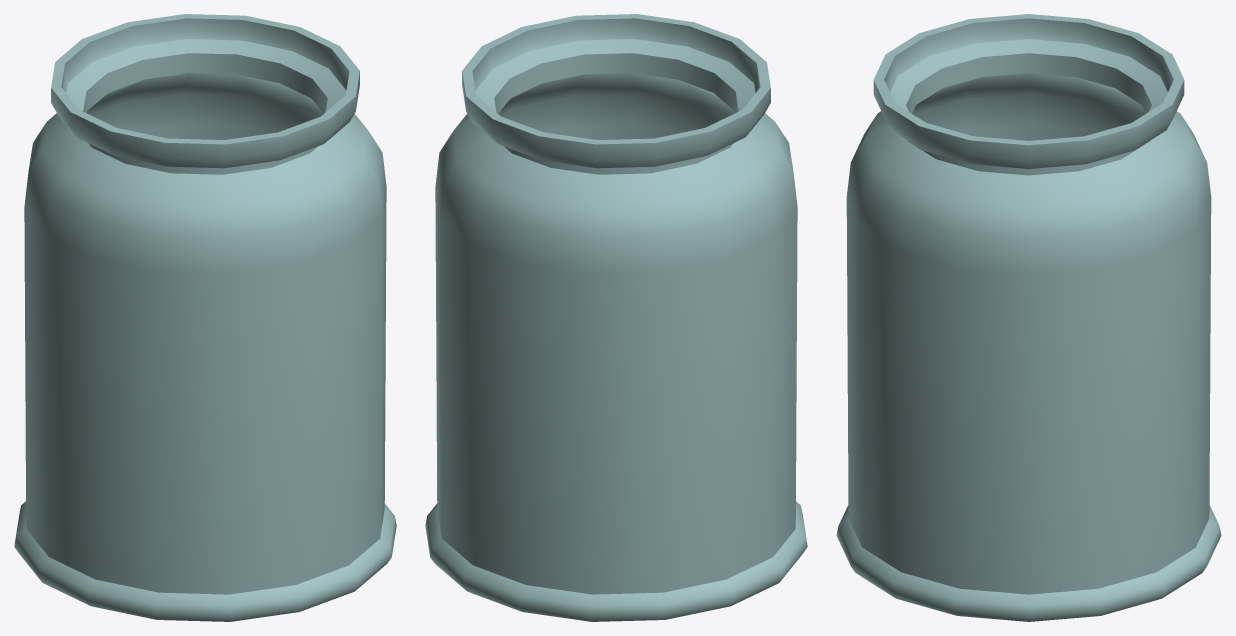
The model's file is Frasco_01.fbx.
3 views of the same model, side by side, from view 1: azimuth 30°, elevation 25°; view 2: azimuth 150°, elevation 25°; view 3: azimuth 270°, elevation 25° (orthographic).
Visible parts, largest first — view 1: Frasco_01; view 2: Frasco_01; view 3: Frasco_01.
Boxes of the visible parts, left/top/right/bottom form: Frasco_01: left=14, top=14, right=396, bottom=621; Frasco_01: left=425, top=14, right=807, bottom=621; Frasco_01: left=836, top=14, right=1221, bottom=621.
Bounding box in the file's own units: 25.91 × 34.73 × 25.91.
